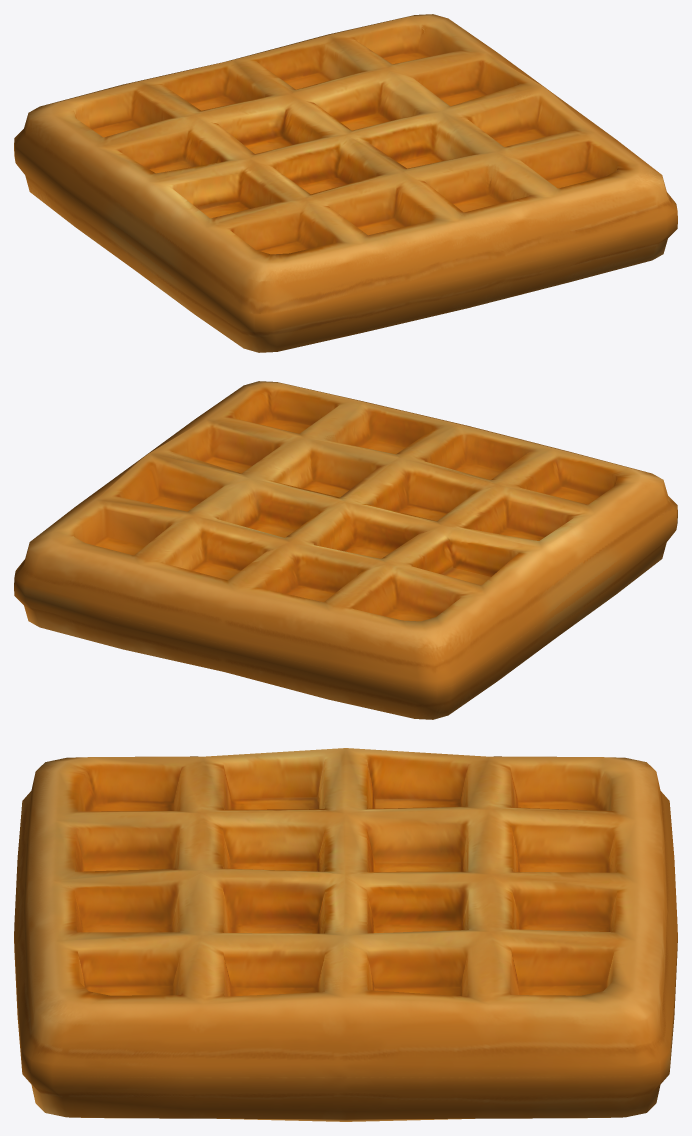
The model's file is waffle_brown.fbx.
3 views of the same model, one above another, from view 1: azimuth 30°, elevation 25°; view 2: azimuth 150°, elevation 25°; view 3: azimuth 270°, elevation 25° (orthographic). The views are drawn at different scales.
Parts seen in each view (by area): view 1: waffle; view 2: waffle; view 3: waffle.
Part boxes in pixels (left/top/right/bottom): waffle: left=14, top=14, right=677, bottom=352; waffle: left=14, top=381, right=677, bottom=719; waffle: left=14, top=748, right=677, bottom=1121.
Bounding box in the file's own units: 0.7813 × 0.1731 × 0.7812.
